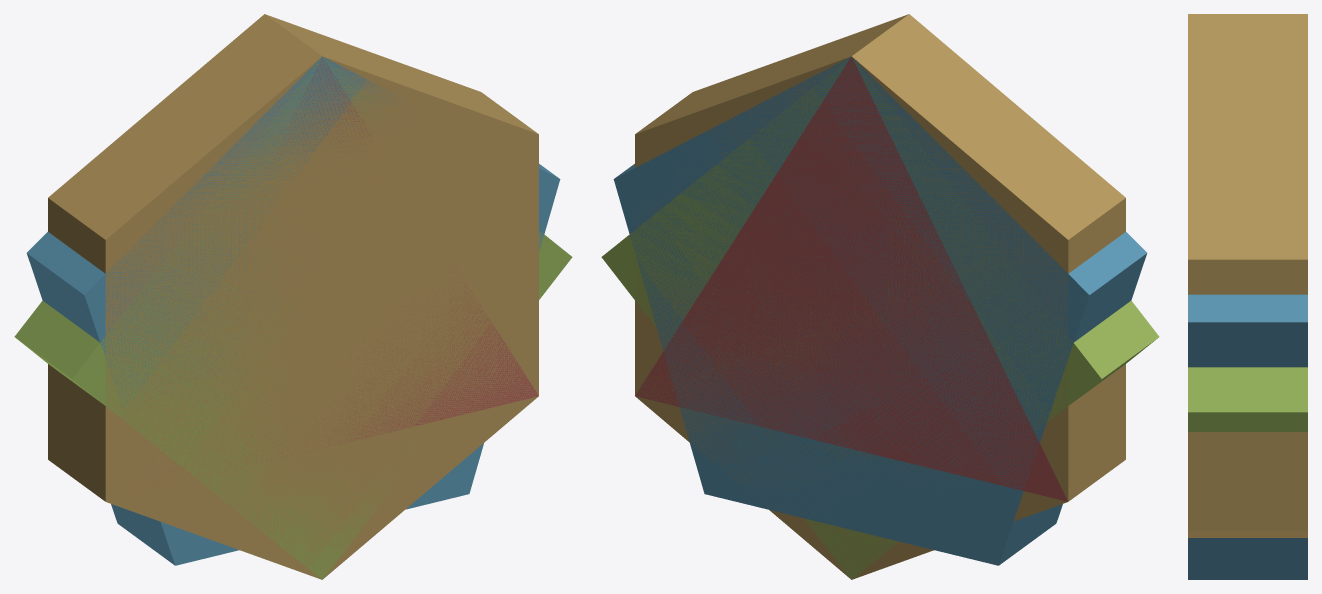
File: PickUps.fbx
3 renders of one model, left to right at view 1: azimuth 30°, elevation 25°; view 2: azimuth 150°, elevation 25°; view 3: azimuth 270°, elevation 25°, orthographic. The views are drawn at different scales.
Visible parts, largest first — view 1: PickUp0, PickUp1, PickUp3, PickUp2; view 2: PickUp3, PickUp2, PickUp0, PickUp1; view 3: PickUp0, PickUp3, PickUp1.
Boxes of the visible parts, x1=… form: PickUp0: x1=48, y1=14, x2=538, y2=579; PickUp1: x1=14, y1=57, x2=572, y2=579; PickUp3: x1=26, y1=56, x2=560, y2=565; PickUp2: x1=142, y1=58, x2=538, y2=491; PickUp3: x1=613, y1=57, x2=1147, y2=565; PickUp2: x1=635, y1=56, x2=1067, y2=501; PickUp0: x1=635, y1=14, x2=1125, y2=579; PickUp1: x1=601, y1=58, x2=1159, y2=579; PickUp0: x1=1188, y1=14, x2=1307, y2=537; PickUp3: x1=1188, y1=294, x2=1307, y2=579; PickUp1: x1=1188, y1=367, x2=1307, y2=431.
Size of the model in its own units: 100 by 100 by 20.
